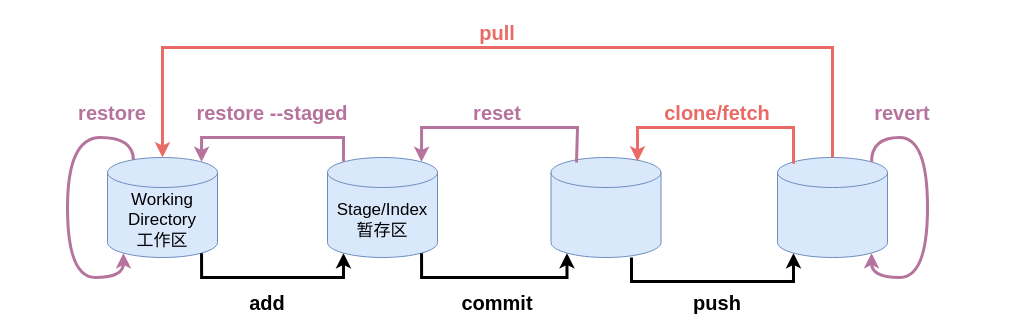
The diagram is 1014 pixels wide and 334 high, and some of its shapes have lost their labels. Here are the shapes that lost their labels. From the top down, the centre of each, then its label:
At (605,207): "Local Repositary 本地仓库".
At (832,207): "Remote Repositary 远程仓库".
